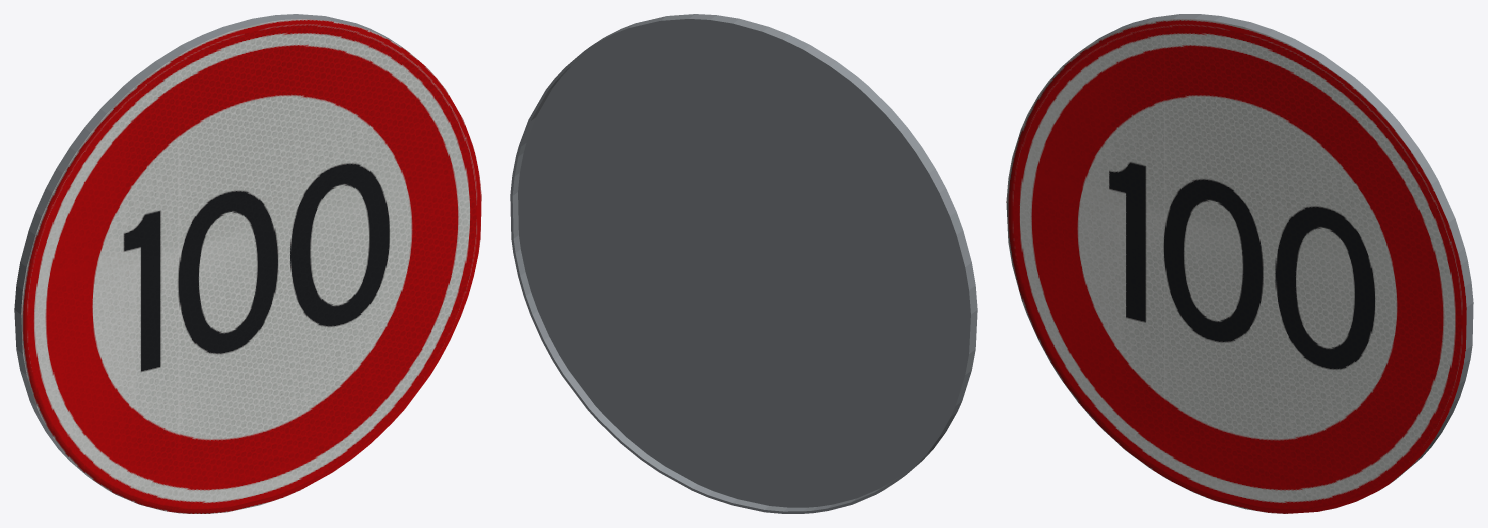
3 renders of one model, left to right at view 1: azimuth 30°, elevation 25°; view 2: azimuth 150°, elevation 25°; view 3: azimuth 330°, elevation 25°, orthographic.
Parts seen in each view (by area): view 1: cat_ffac0af1777b1590; view 2: cat_ffac0af1777b1590; view 3: cat_ffac0af1777b1590.
Boxes of the visible parts, bbox=[...] form: cat_ffac0af1777b1590: bbox=[14, 14, 481, 513]; cat_ffac0af1777b1590: bbox=[510, 14, 977, 513]; cat_ffac0af1777b1590: bbox=[1006, 14, 1473, 513].
Bounding box in the file's own units: 0.6 × 0.015 × 0.6.
2 materials, 1 textured.
